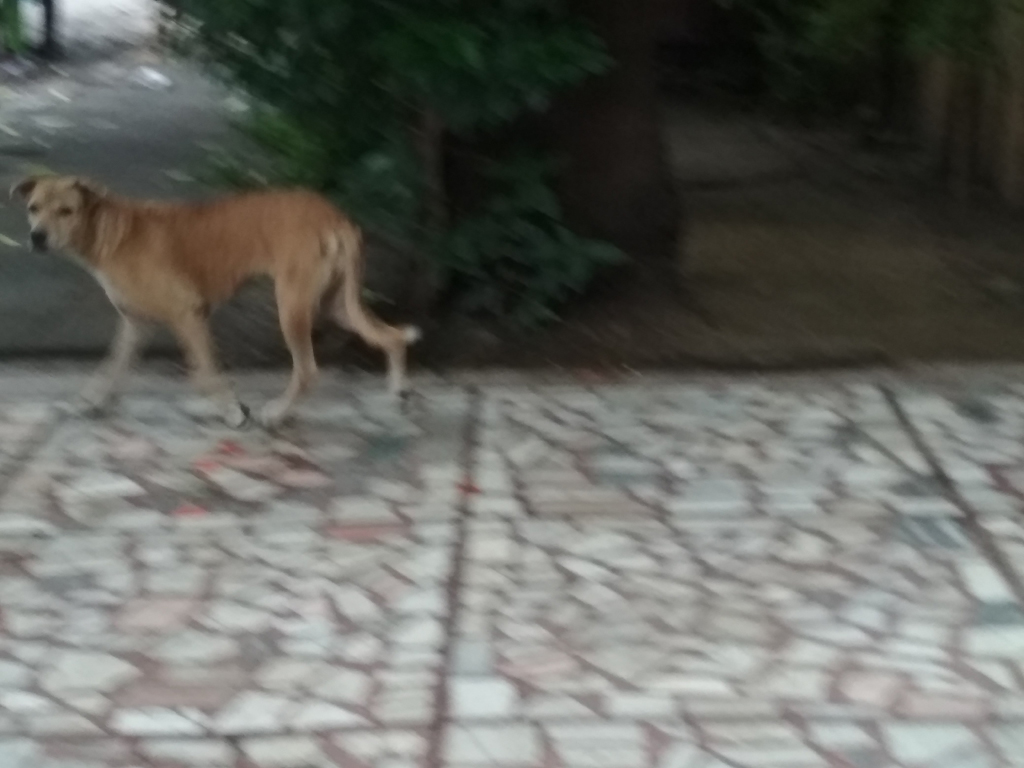dog: (7, 173, 424, 425)
